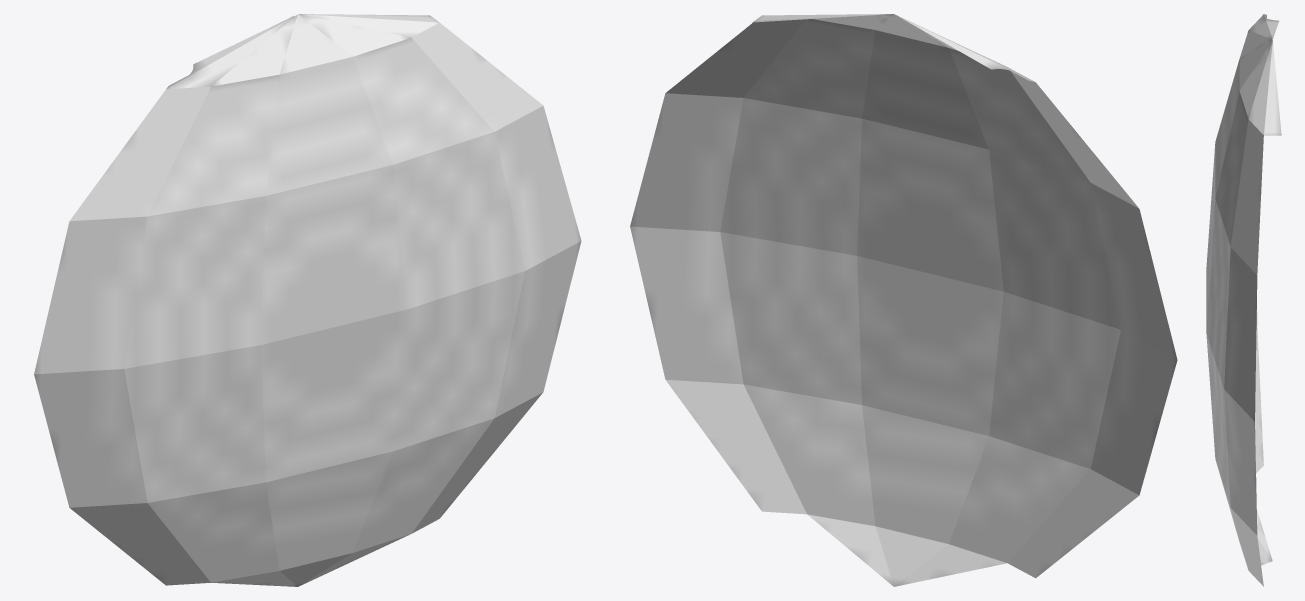
File: dc_metro_signal_light_2w_light_layer.obj
3 renders of one model, left to right at view 1: azimuth 30°, elevation 25°; view 2: azimuth 150°, elevation 25°; view 3: azimuth 270°, elevation 25°, orthographic. The views are drawn at different scales.
Visible parts, largest first — view 1: light; view 2: light; view 3: light.
Boxes of the visible parts, x1,y1,x2,y2 form: light: (34,14,581,586); light: (630,14,1177,586); light: (1206,14,1281,586).
Bounding box in the file's own units: 0.2031 × 0.2031 × 0.0297.
1 material, 1 textured.
